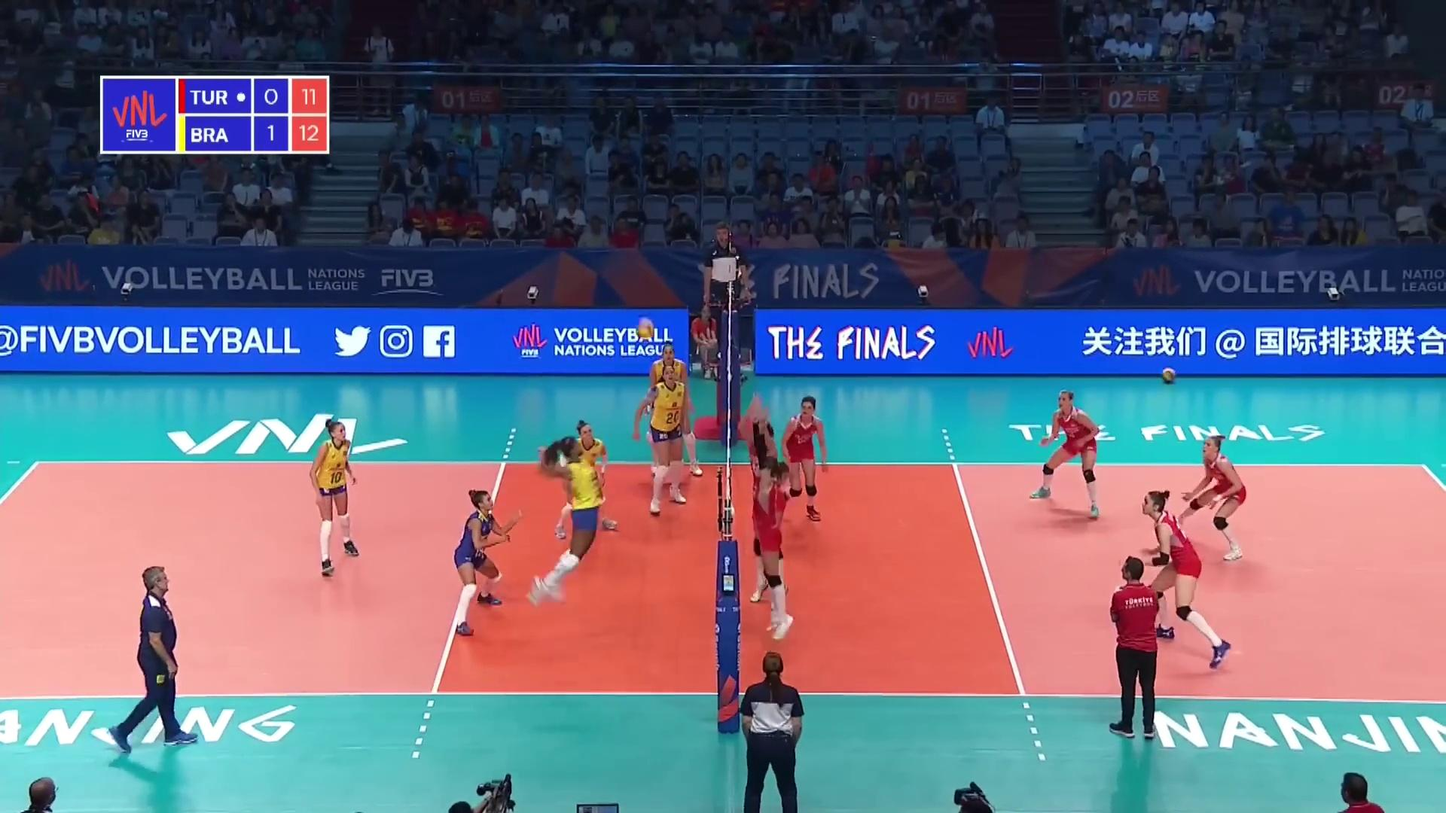player: (1140, 491, 1229, 665), (536, 444, 601, 611), (1162, 437, 1248, 560), (742, 398, 789, 601), (1031, 394, 1105, 520), (453, 491, 515, 633), (652, 340, 704, 483), (554, 418, 615, 537), (755, 457, 794, 638), (639, 367, 689, 508), (311, 415, 355, 573), (775, 396, 825, 527)
refree: (738, 654, 803, 813), (705, 226, 743, 357)
